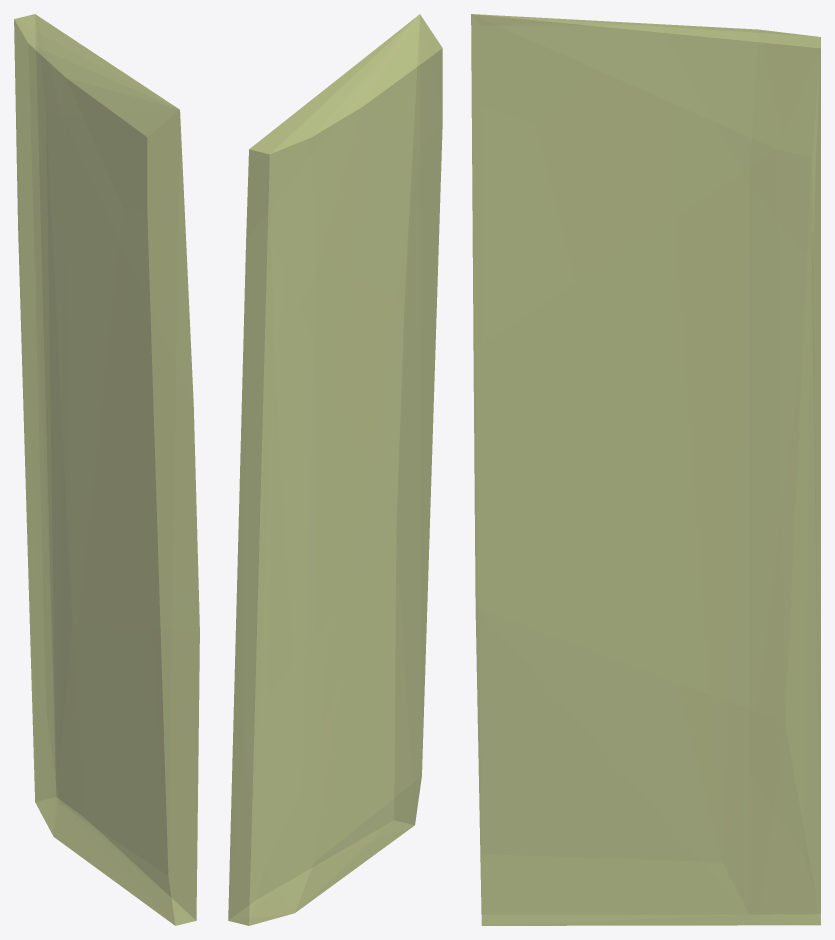
3 views of the same model, side by side, from view 1: azimuth 30°, elevation 25°; view 2: azimuth 150°, elevation 25°; view 3: azimuth 270°, elevation 25° (orthographic). The views are drawn at different scales.
Visible parts, largest first — view 1: Shape_IndexedFaceSet.002; view 2: Shape_IndexedFaceSet.002; view 3: Shape_IndexedFaceSet.002.
Boxes of the visible parts, left/top/right/bottom form: Shape_IndexedFaceSet.002: left=14, top=14, right=199, bottom=925; Shape_IndexedFaceSet.002: left=228, top=14, right=442, bottom=925; Shape_IndexedFaceSet.002: left=471, top=14, right=820, bottom=925.
Size of the model in its own units: 0.0633 by 0.7833 by 0.2758.
